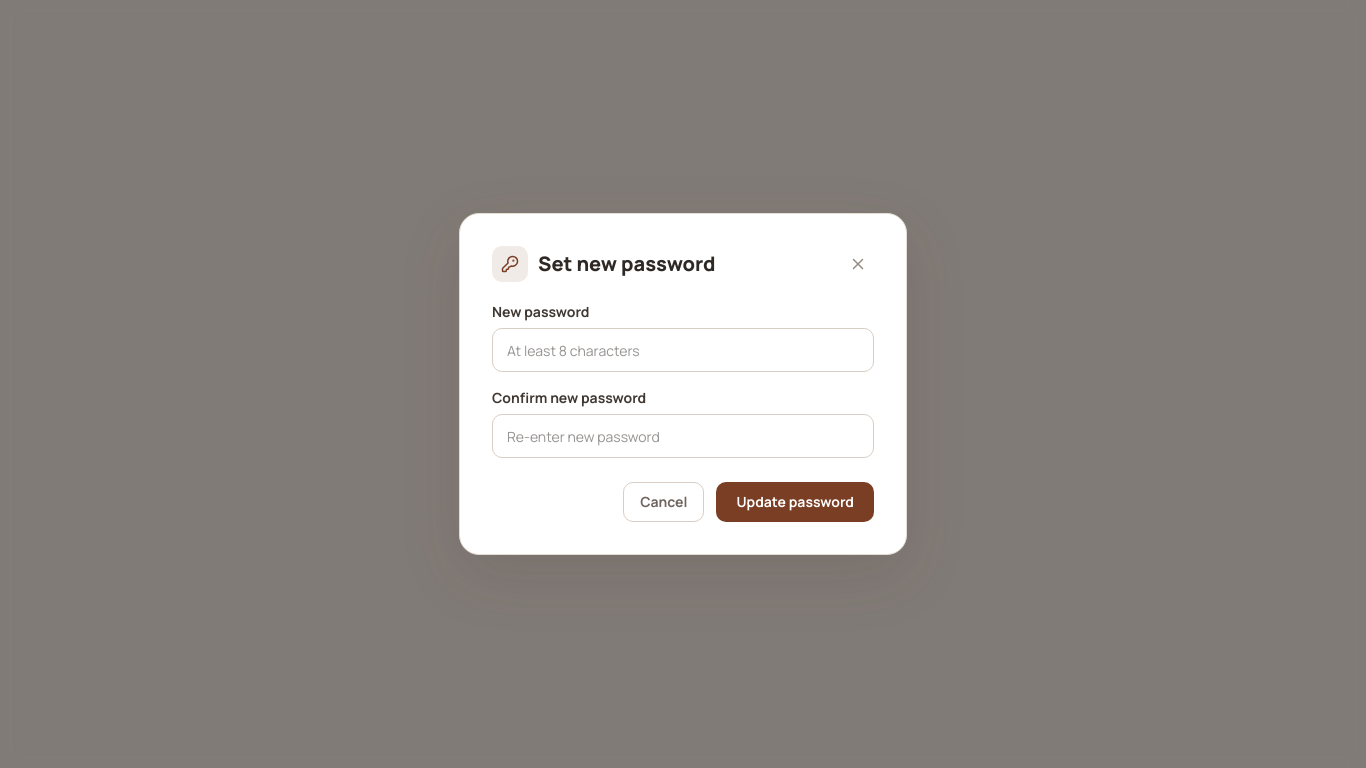
Test: PasswordResetDialog › keeps the recovery session active when the password update fails
Type "replacement-password" into the password field labelled "New password" at (683, 350), box [492,328,874,372]
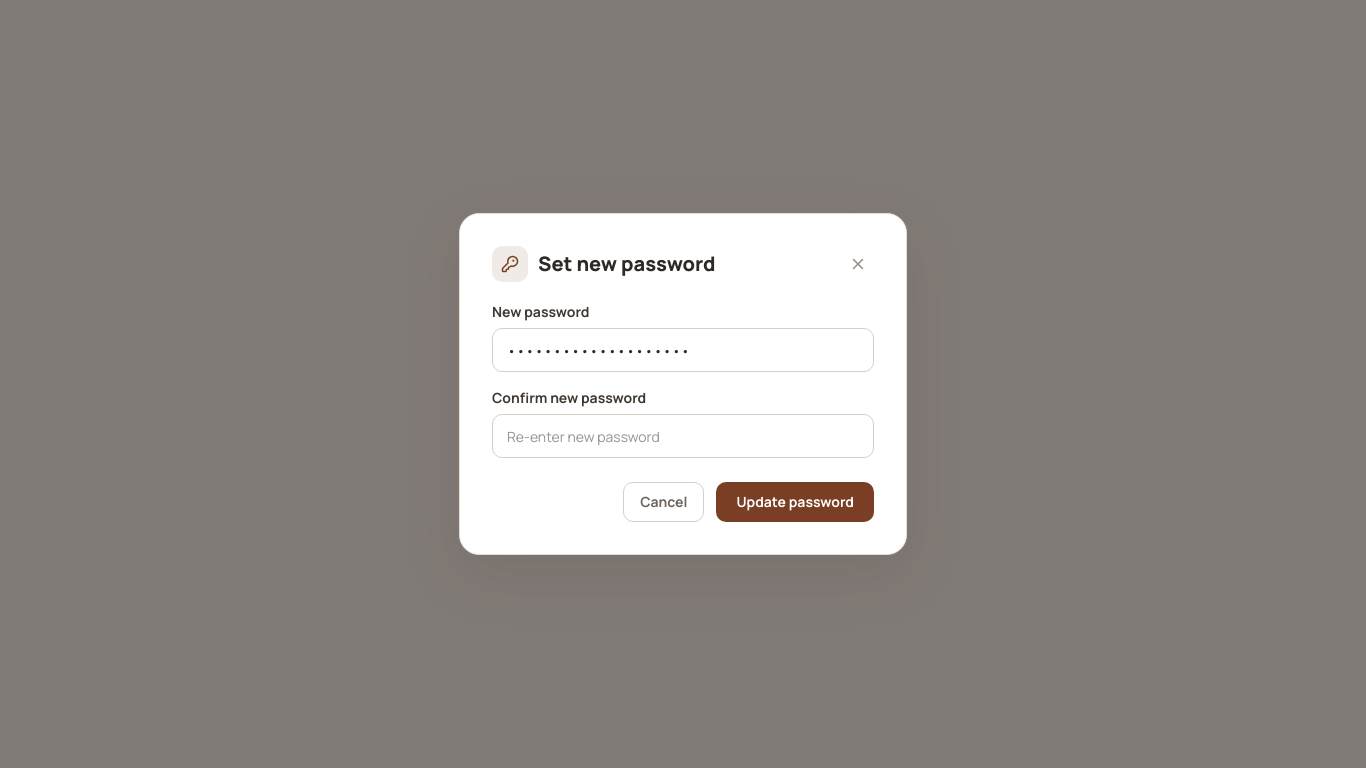
Type "replacement-password" into the password field labelled "Confirm new password" at (683, 436), box [492,414,874,458]
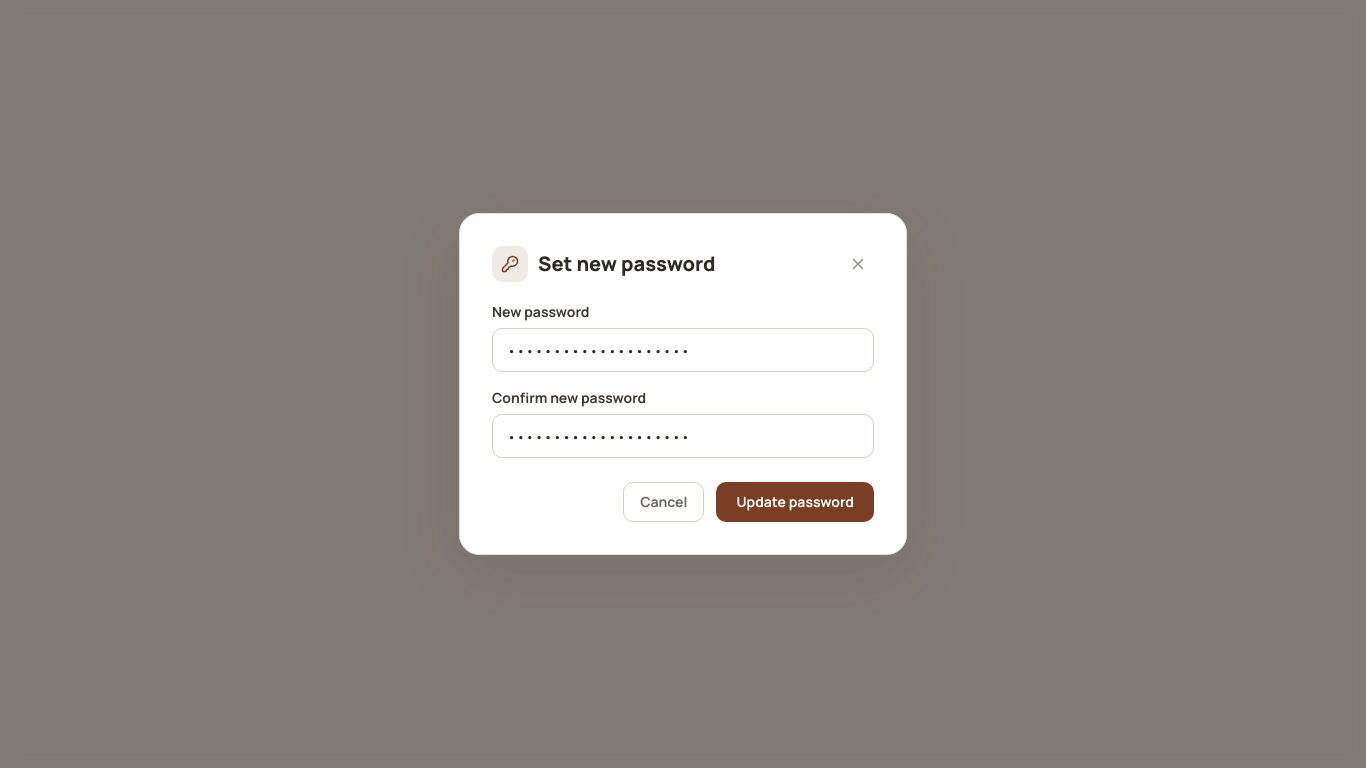
Click the button "Update password" at (795, 502), box [716,482,874,522]
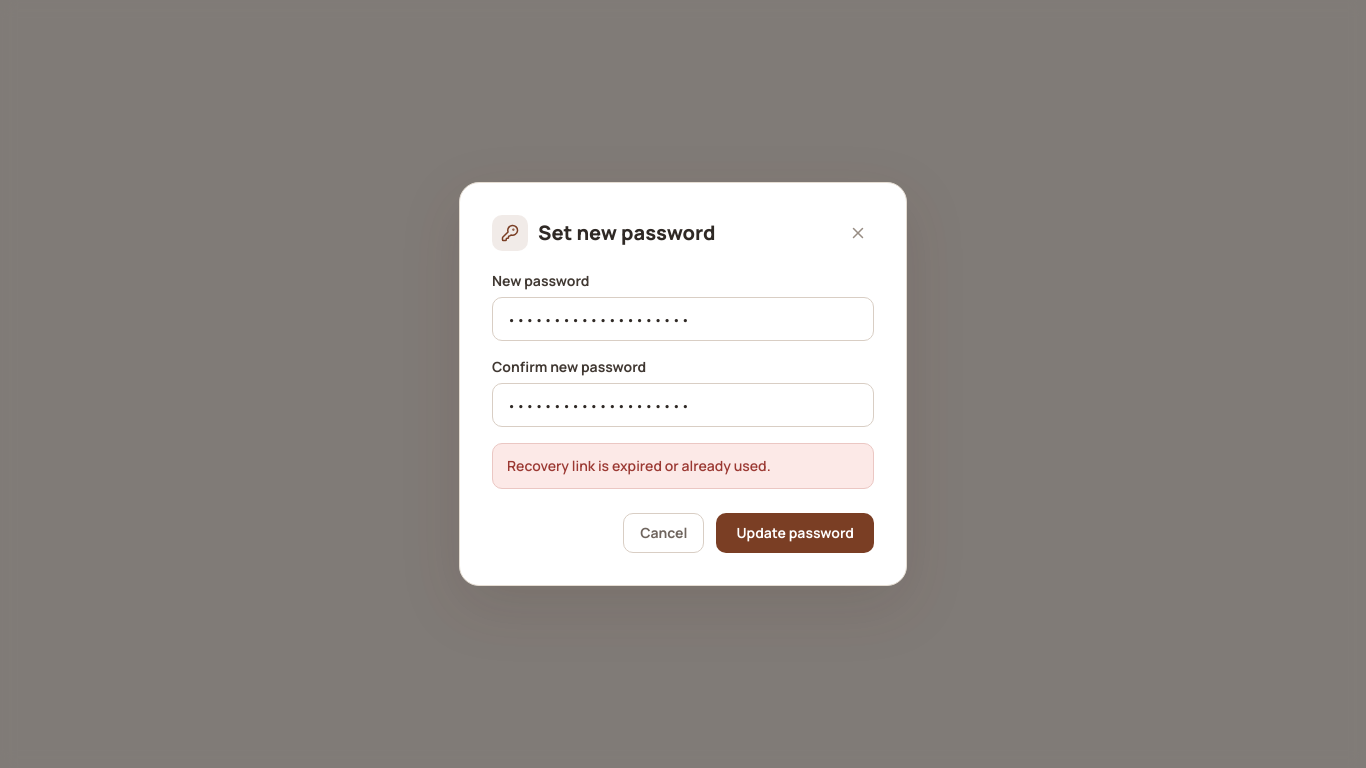
Result: the message shows "expired or already used" at [507,456,771,475]
